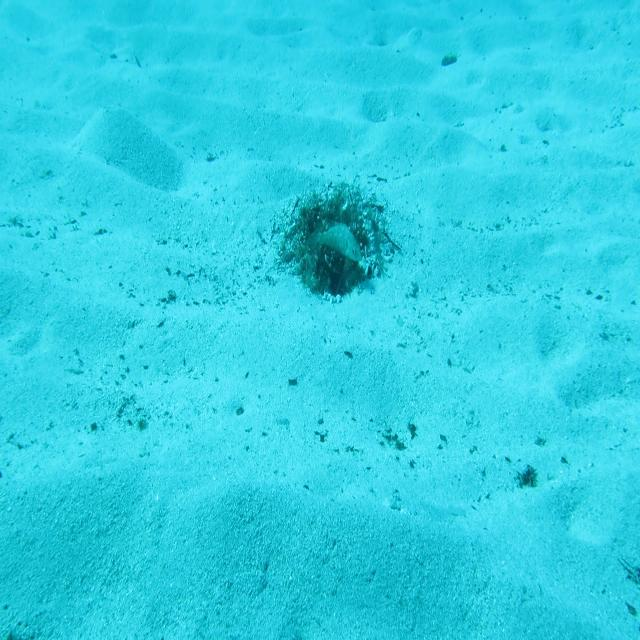MAN: (307, 220, 363, 263)
nest: (279, 180, 385, 296)
vegetation: (517, 464, 537, 488), (442, 52, 456, 67)
